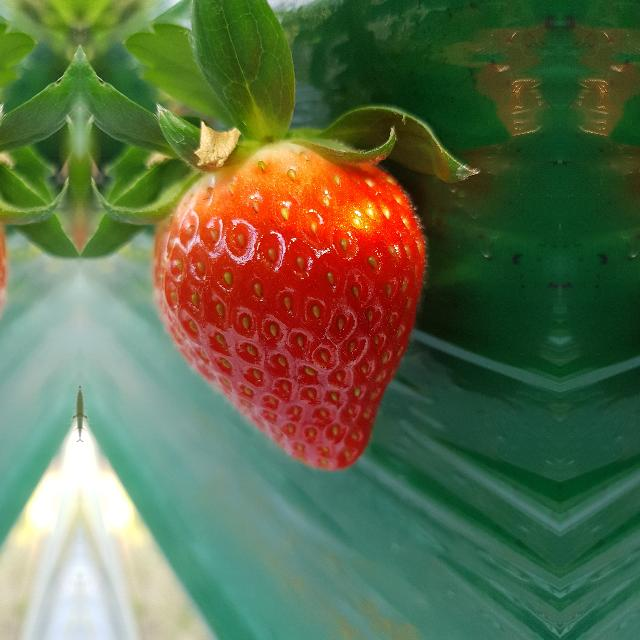Health_100: (150, 140, 428, 470)
